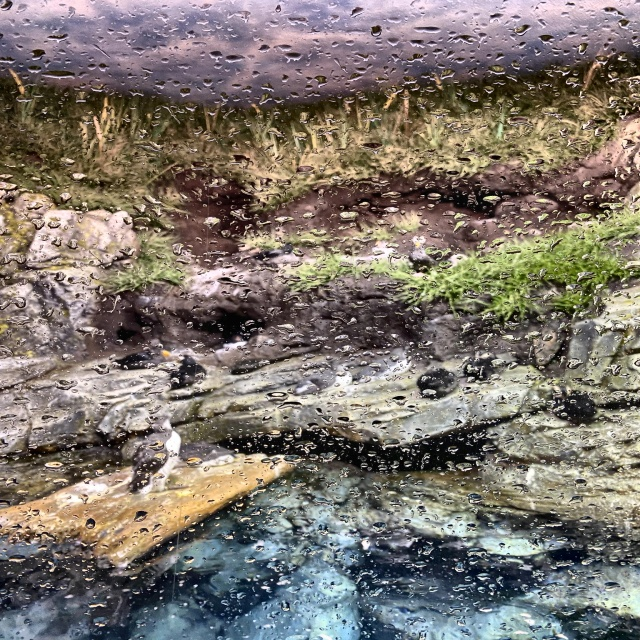puffin: (129, 418, 186, 492), (302, 367, 352, 395), (168, 355, 205, 389), (420, 366, 455, 396), (117, 348, 169, 368), (366, 355, 408, 379), (561, 393, 595, 422), (464, 356, 497, 382), (254, 243, 298, 262), (410, 240, 439, 268), (372, 240, 396, 255)
